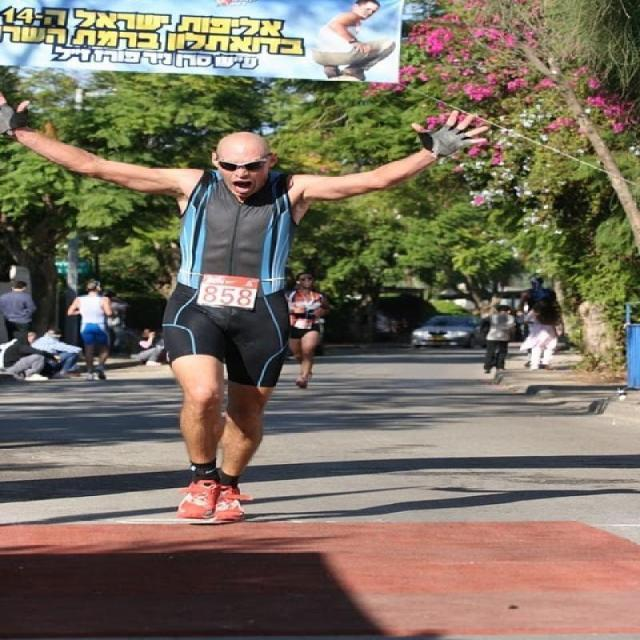dorsal: (199, 272, 260, 310)
